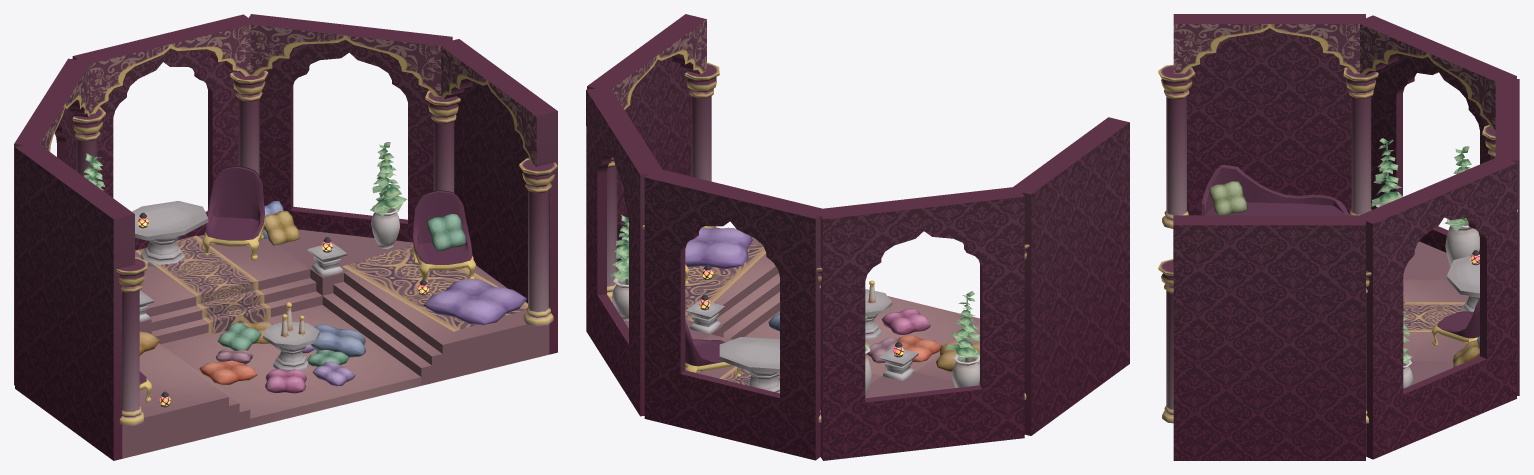
File: RoomScene.fbx
The picture shows the model from 3 angles, left to right: view 1: azimuth 30°, elevation 25°; view 2: azimuth 150°, elevation 25°; view 3: azimuth 270°, elevation 25°; orthographic projection. The views are drawn at different scales.
Parts seen in each view (by area): view 1: WallL1, WallR1, WallR2, Wall, StairsR, Floor, StairsL, StairsB, StairsB1, WallL2, Chair1, StairsB2 (+20 smaller); view 2: WallL2, Wall, WallL1, WallR2, WallR1, StairsR, Floor, Pillar6, Table2, Pillow11, StairsB2, CornerL (+12 smaller); view 3: WallR1, WallL1, WallR2, WallL2, Pillar1, Sofa, Pillar2, Wall, StairsB, Pillar6, StairsB1, CornerL (+8 smaller).
Part boxes in pixels (x1=…): WallL1: x1=15, y1=142, x2=134, y2=460; WallR1: x1=438, y1=39, x2=557, y2=354; WallR2: x1=245, y1=14, x2=452, y2=242; Wall: x1=72, y1=14, x2=255, y2=251; StairsR: x1=322, y1=265, x2=549, y2=385; Floor: x1=161, y1=305, x2=421, y2=427; StairsL: x1=122, y1=331, x2=250, y2=458; StairsB: x1=135, y1=235, x2=322, y2=343; StairsB1: x1=135, y1=235, x2=270, y2=334; WallL2: x1=14, y1=58, x2=91, y2=385; Chair1: x1=202, y1=166, x2=265, y2=260; StairsB2: x1=342, y1=244, x2=527, y2=331; WallL2: x1=818, y1=186, x2=1024, y2=460; Wall: x1=644, y1=168, x2=827, y2=460; WallL1: x1=1010, y1=117, x2=1129, y2=435; WallR2: x1=586, y1=88, x2=663, y2=416; WallR1: x1=587, y1=14, x2=706, y2=223; StairsR: x1=713, y1=227, x2=779, y2=339; Floor: x1=745, y1=296, x2=979, y2=375; Pillar6: x1=684, y1=62, x2=719, y2=229; Table2: x1=719, y1=337, x2=779, y2=393; Pillow11: x1=685, y1=227, x2=752, y2=268; StairsB2: x1=610, y1=244, x2=765, y2=321; CornerL: x1=865, y1=372, x2=955, y2=398; WallR1: x1=1173, y1=215, x2=1365, y2=460; WallL1: x1=1173, y1=14, x2=1365, y2=215; WallR2: x1=1357, y1=158, x2=1516, y2=459; WallL2: x1=1357, y1=15, x2=1516, y2=254; Pillar1: x1=1158, y1=64, x2=1195, y2=228; Sofa: x1=1201, y1=165, x2=1349, y2=215; Pillar2: x1=1343, y1=67, x2=1378, y2=215; Wall: x1=1495, y1=79, x2=1519, y2=395; StairsB: x1=1403, y1=279, x2=1468, y2=360; Pillar6: x1=1158, y1=259, x2=1173, y2=423; StairsB1: x1=1403, y1=302, x2=1465, y2=331; CornerL: x1=1403, y1=241, x2=1450, y2=279.
Bounding box in the file's own units: 1040 × 540 × 752.
